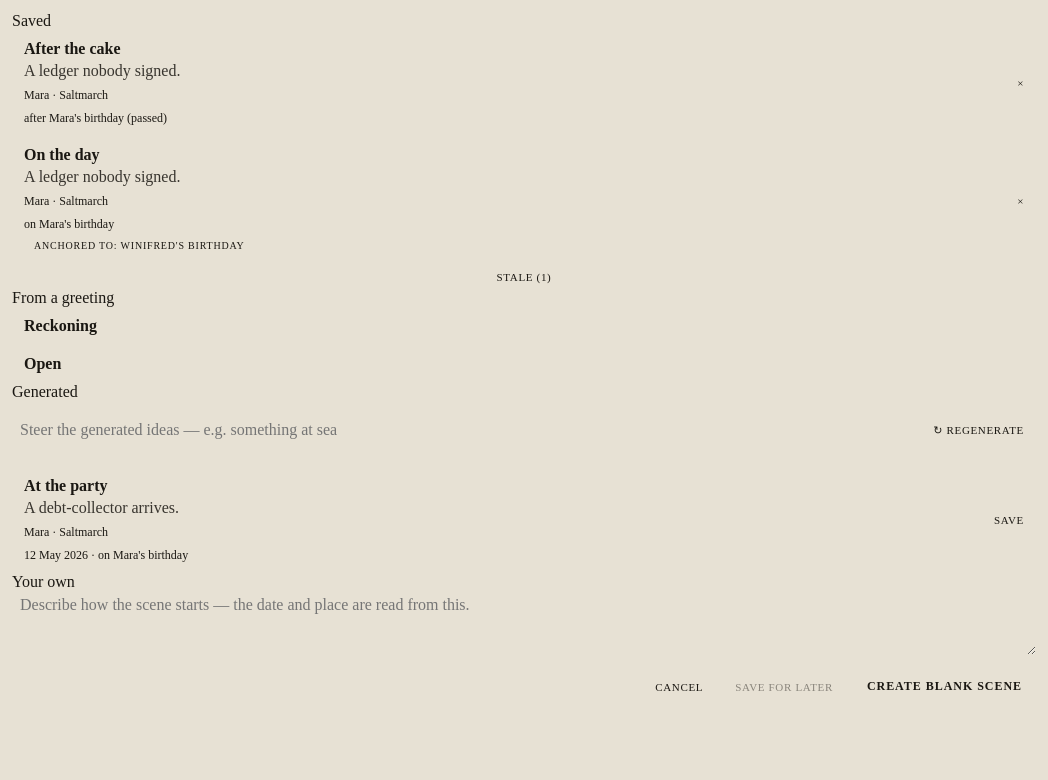
a birthday anchor names the birthday, so a passed one is no death notice
The width and height of the screenshot is (1048, 780).
Expected: the text "after Mara's birthday (passed)" is shown, [24,111,167,126]
Expected: the text "on Mara's birthday" is shown, [24,217,114,232]
Click the button "Stale (1)": (524, 277) [12,265,1036,289]
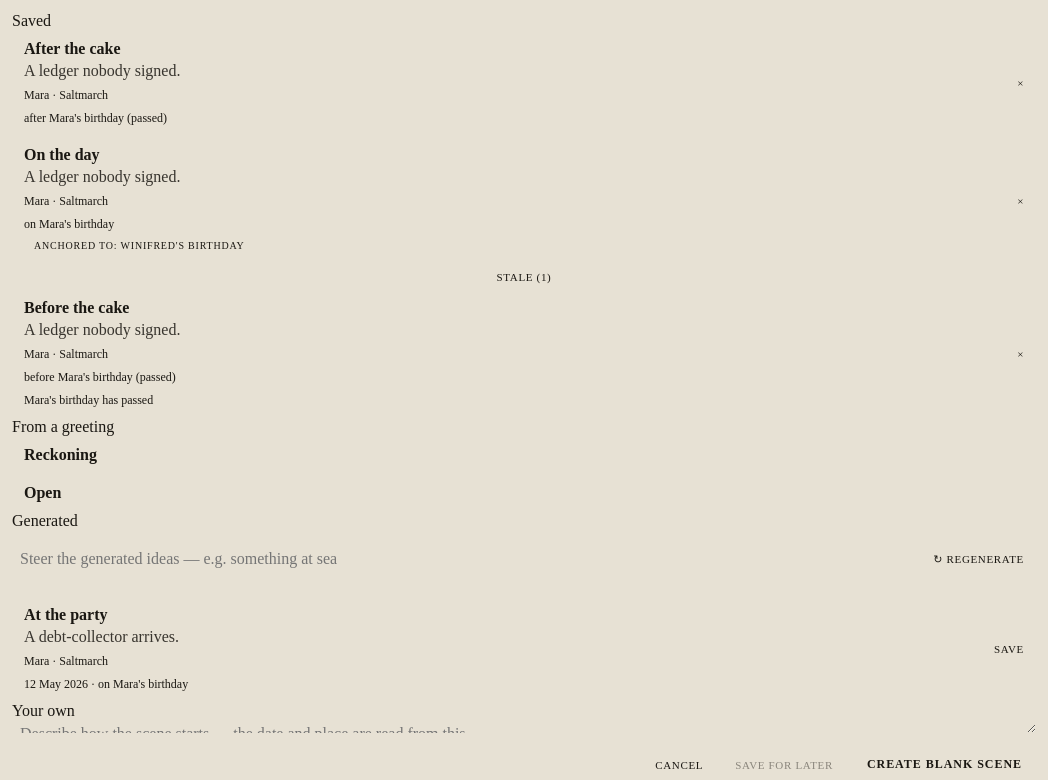
Now the text "before Mara's birthday (passed)" is shown, box [24,370,176,385]
